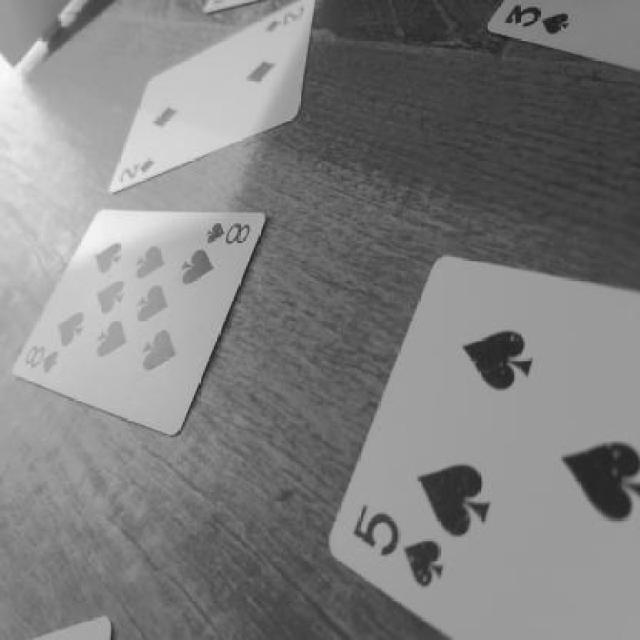2D: (104, 154, 168, 194)
5S: (327, 508, 458, 610)
8S: (207, 209, 259, 256)
